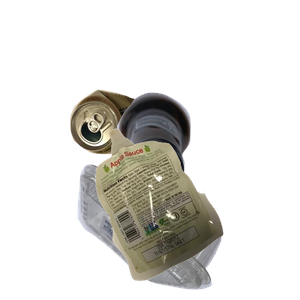glass: (115, 90, 300, 270)
metal: (67, 87, 206, 234)
plastic: (75, 147, 289, 300)
trash: (93, 126, 300, 300)
